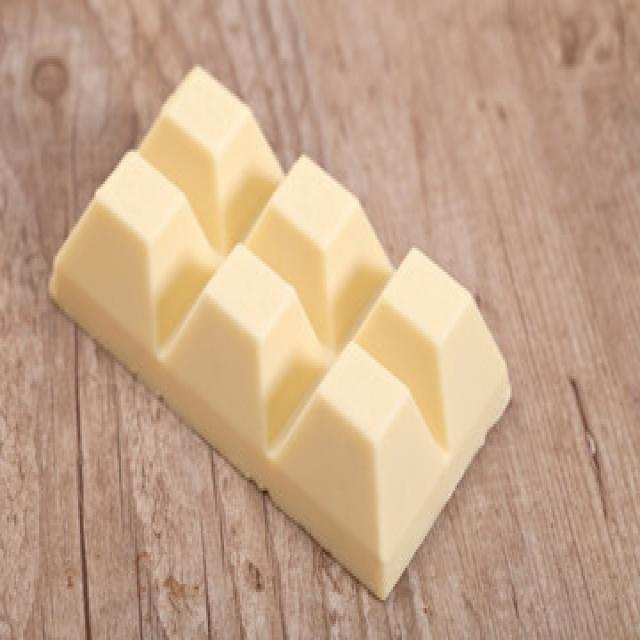Chocolate: (47, 58, 512, 595)
